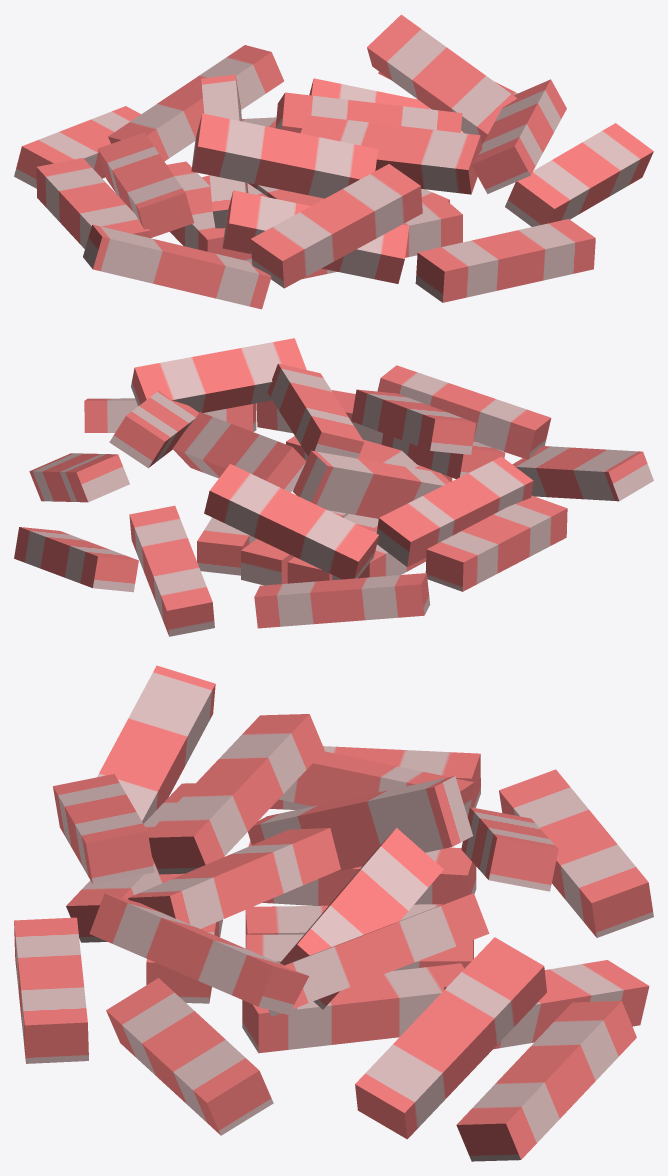
The model's file is lardons_sans_bol.fbx.
The picture shows the model from 3 angles, top to bottom: view 1: azimuth 30°, elevation 25°; view 2: azimuth 150°, elevation 25°; view 3: azimuth 270°, elevation 25°; orthographic projection. The views are drawn at different scales.
Visible parts, largest first — view 1: Lardon.028, Lardon.034, Lardon.025, Lardon.036, Lardon.024, Lardon.031, Lardon.038, Lardon.037, Lardon.035, Lardon.033, Lardon.032, Lardon.026 (+7 smaller); view 2: Lardon.037, Lardon.033, Lardon.035, Lardon.026, Lardon.030, Lardon.040, Lardon.039, Lardon.028, Lardon.031, Lardon.041, Lardon.038, Lardon.029 (+11 smaller); view 3: Lardon.027, Lardon.029, Lardon.034, Lardon.024, Lardon.030, Lardon.035, Lardon.038, Lardon.045, Lardon.039, Lardon.031, Lardon.025, Lardon.036 (+11 smaller).
Part boxes in pixels (x1,y1,x2,y2): Lardon.028: [250, 164, 422, 288]; Lardon.034: [191, 113, 377, 198]; Lardon.025: [415, 219, 595, 302]; Lardon.036: [367, 14, 517, 144]; Lardon.024: [505, 123, 653, 226]; Lardon.031: [83, 224, 271, 309]; Lardon.038: [300, 115, 482, 194]; Lardon.037: [108, 45, 283, 161]; Lardon.035: [472, 79, 566, 194]; Lardon.033: [97, 132, 194, 238]; Lardon.032: [222, 190, 409, 283]; Lardon.026: [36, 158, 150, 248]; Lardon.037: [204, 464, 378, 579]; Lardon.033: [376, 456, 533, 566]; Lardon.035: [131, 338, 306, 412]; Lardon.026: [425, 495, 567, 591]; Lardon.030: [254, 573, 430, 628]; Lardon.040: [129, 505, 214, 636]; Lardon.039: [292, 450, 449, 518]; Lardon.028: [377, 365, 551, 459]; Lardon.031: [512, 446, 653, 501]; Lardon.041: [172, 412, 306, 492]; Lardon.038: [267, 363, 363, 458]; Lardon.029: [14, 527, 138, 592]; Lardon.027: [355, 937, 546, 1139]; Lardon.029: [456, 1001, 636, 1161]; Lardon.034: [148, 714, 324, 874]; Lardon.024: [106, 978, 273, 1135]; Lardon.030: [499, 769, 653, 937]; Lardon.035: [89, 893, 309, 1016]; Lardon.038: [128, 828, 340, 928]; Lardon.045: [242, 963, 464, 1053]; Lardon.039: [248, 776, 472, 871]; Lardon.031: [97, 665, 215, 823]; Lardon.025: [14, 917, 88, 1063]; Lardon.036: [268, 893, 489, 1016].
Bounding box in the file's own units: 171 × 53.08 × 129.
23 materials, 23 textured.
